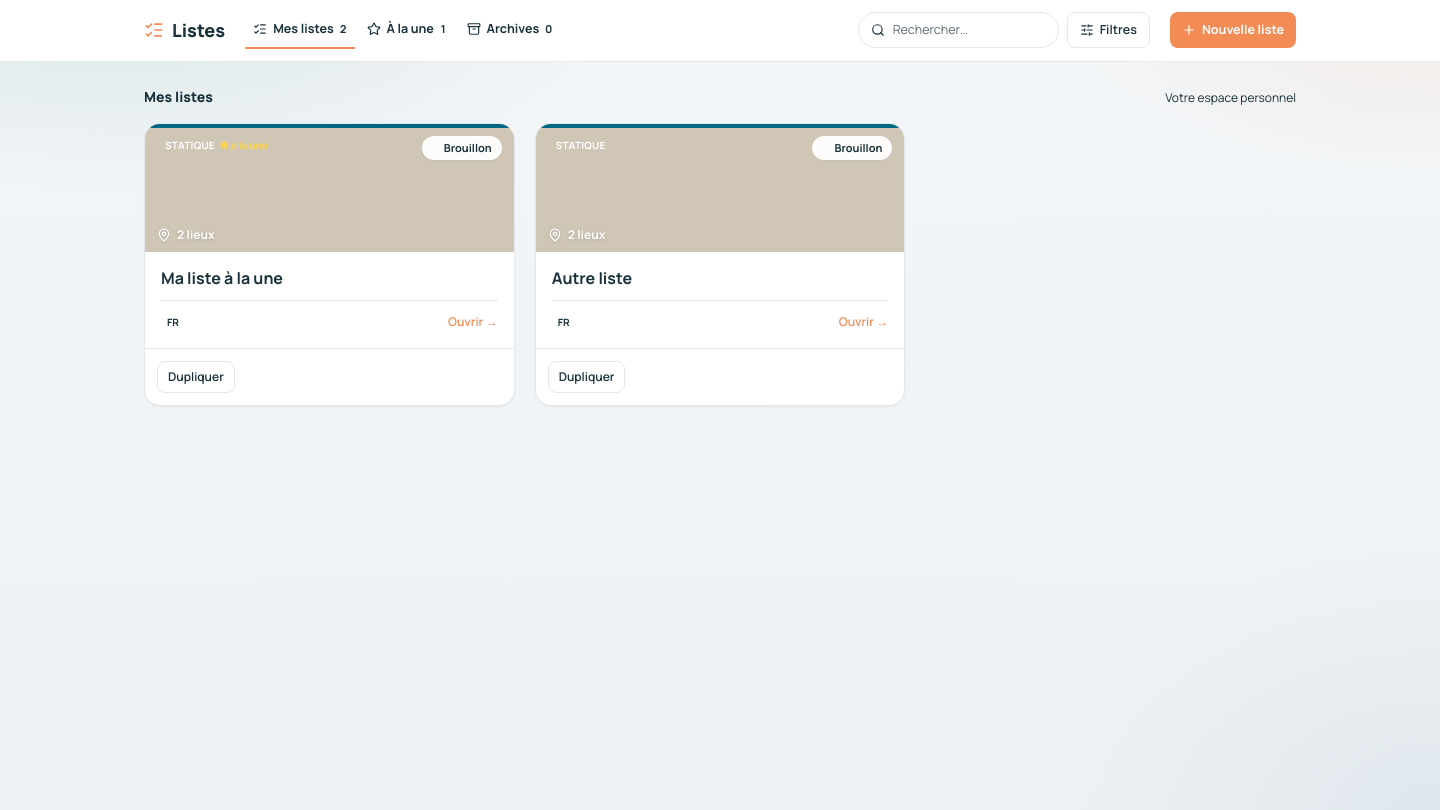
Test case: ListsManageView — onglets personnels et collectifs › une liste du créateur déjà à la une reste dans « Mes listes » et apparaît dans la vue collective
Expected: the heading "Ma liste à la une" is shown, [161, 267, 283, 289]
Expected: the heading "Autre liste" is shown, [552, 267, 632, 289]
Click the tab "À la une 1".
click(407, 30)  # box [359, 12, 455, 49]
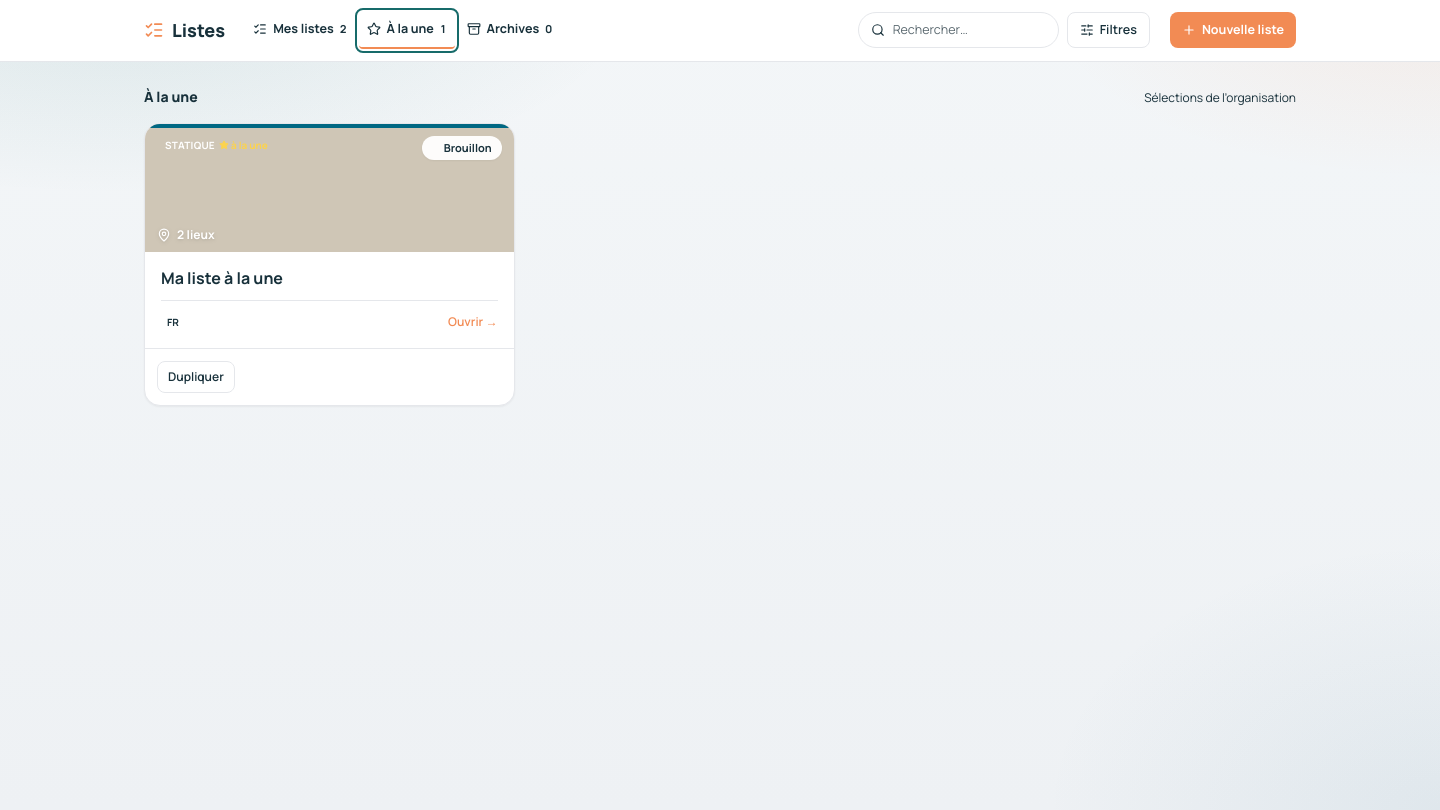
Expected: the heading "Ma liste à la une" is shown, [161, 267, 283, 289]
Expected: the link "Autre liste" is gone
